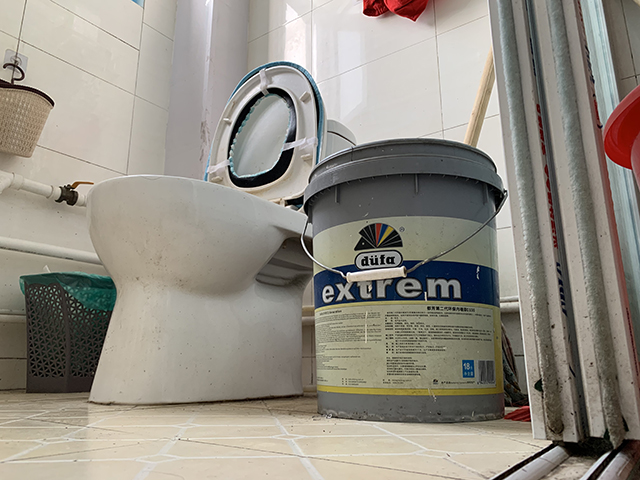closestool: (85, 58, 328, 407)
trashcan: (18, 270, 117, 395)
